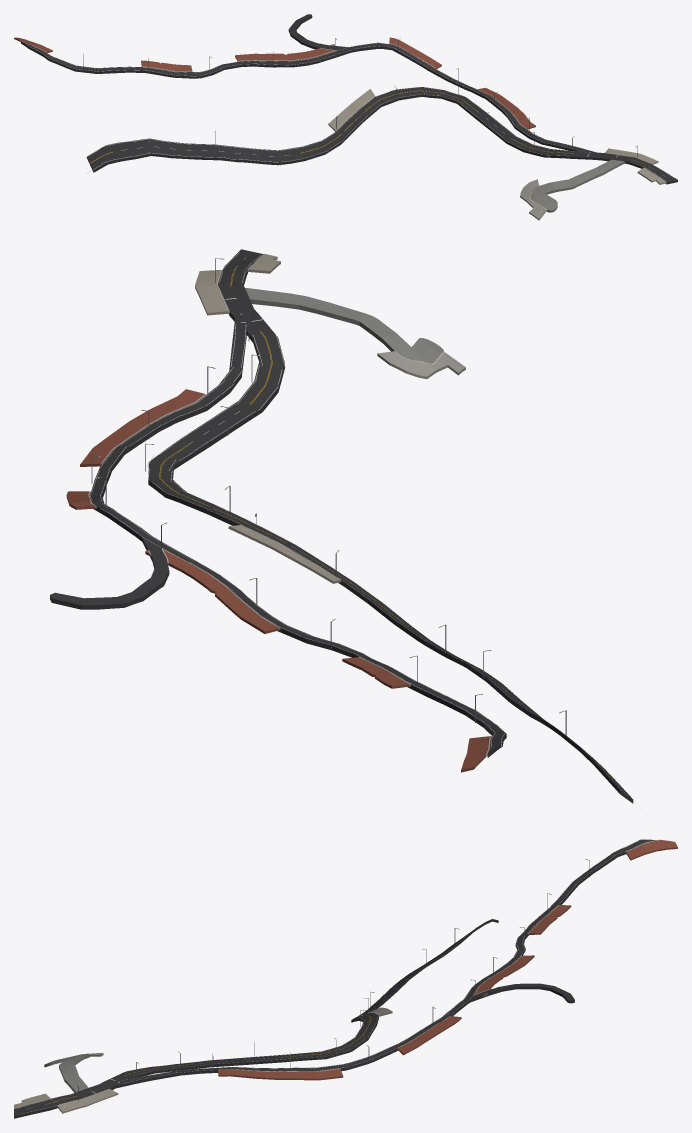
Rendered from 17-109431-59464.6fde41c3.glb.
The picture shows the model from 3 angles, top to bottom: view 1: azimuth 30°, elevation 25°; view 2: azimuth 150°, elevation 25°; view 3: azimuth 270°, elevation 25°; orthographic projection. The views are drawn at different scales.
Size of the model in its own units: 224 by 42.98 by 270.
